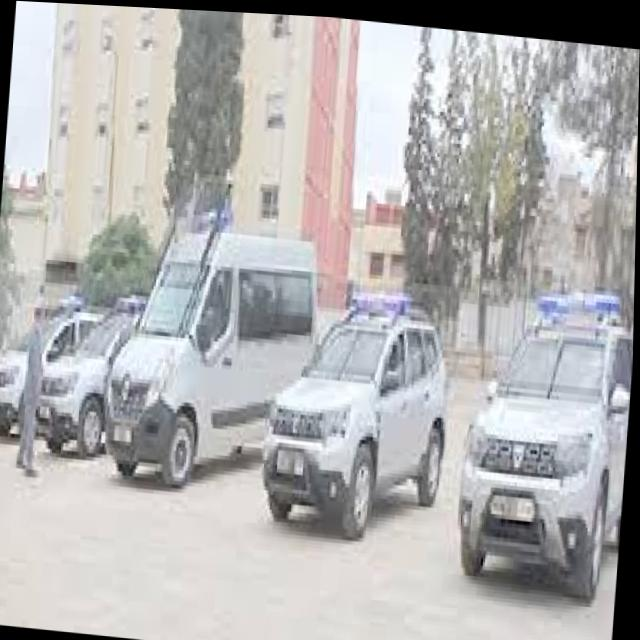gendarme car: (259, 275, 457, 547), (450, 274, 594, 598)
